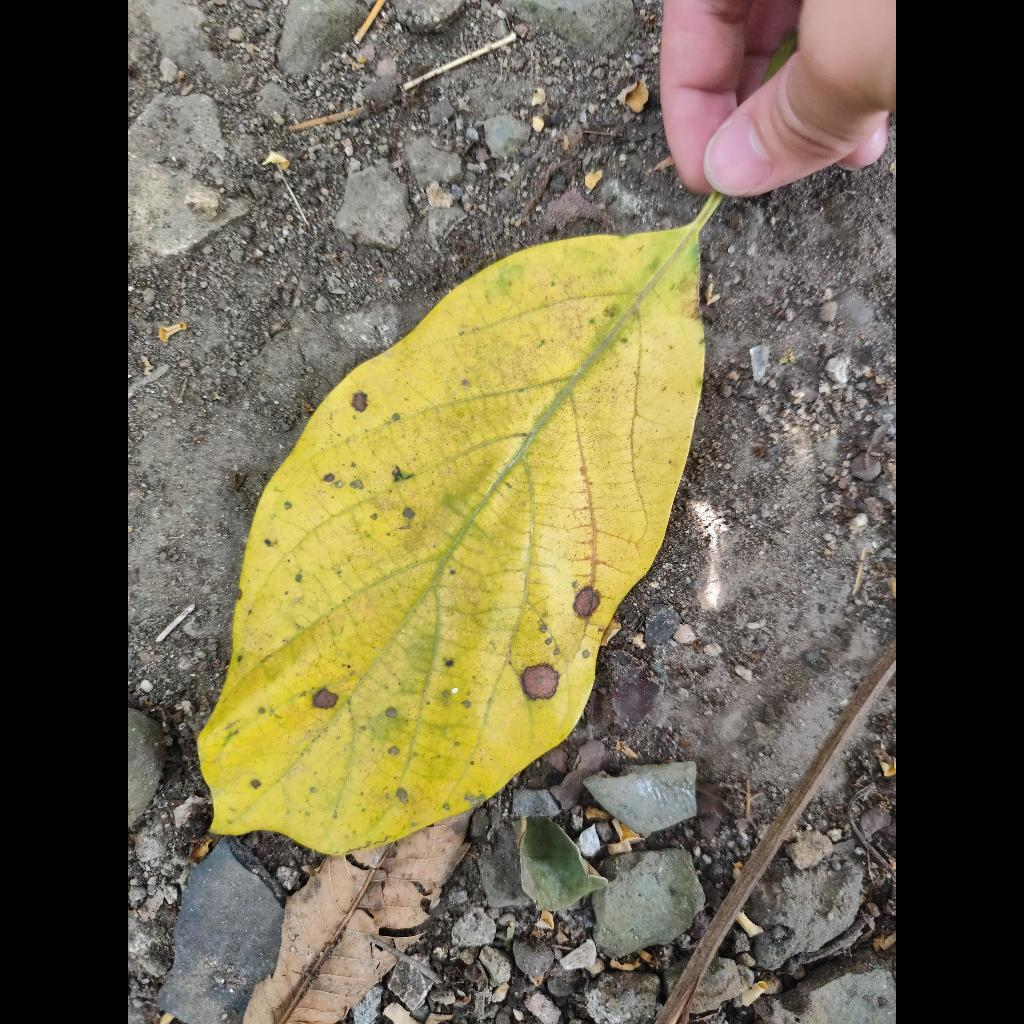nutrient_deficiency: (200, 201, 717, 854)
